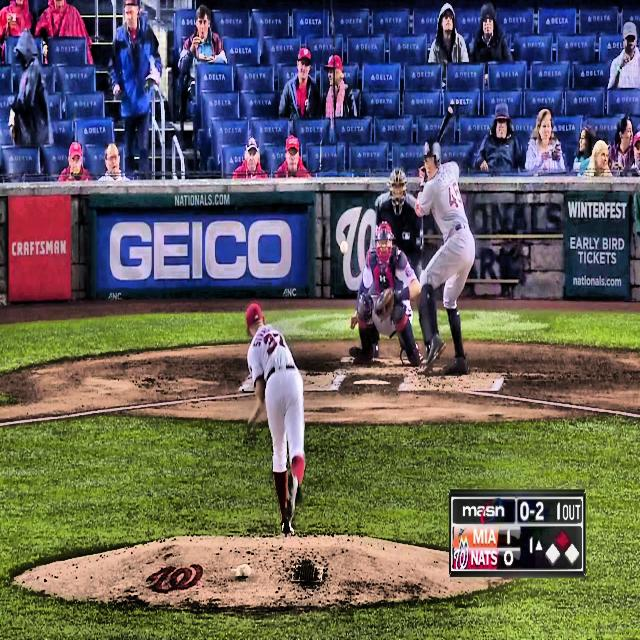baseball: (339, 240, 348, 254)
